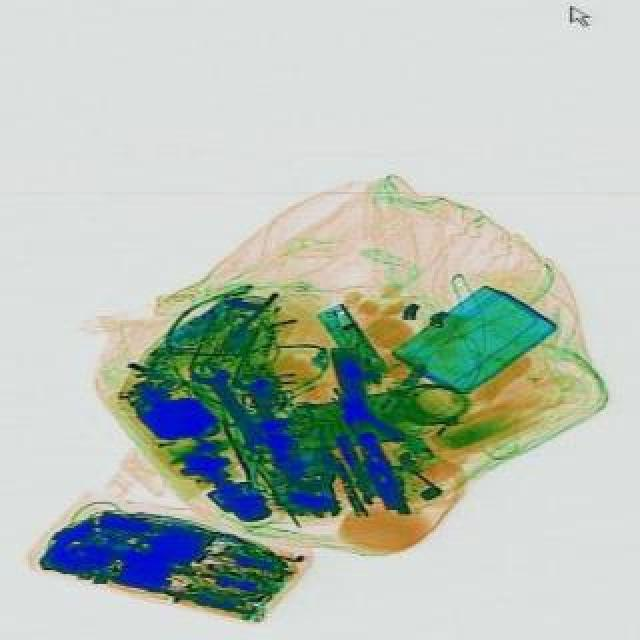scissors: (184, 354, 272, 460), (222, 366, 298, 476)
